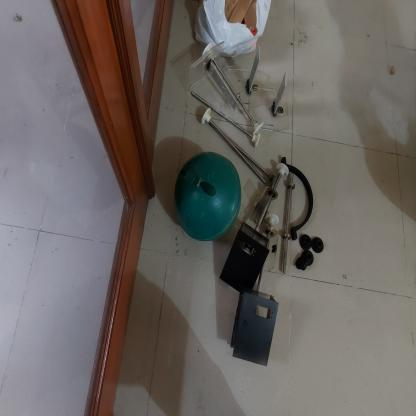green_buoy: (170, 149, 246, 245)
